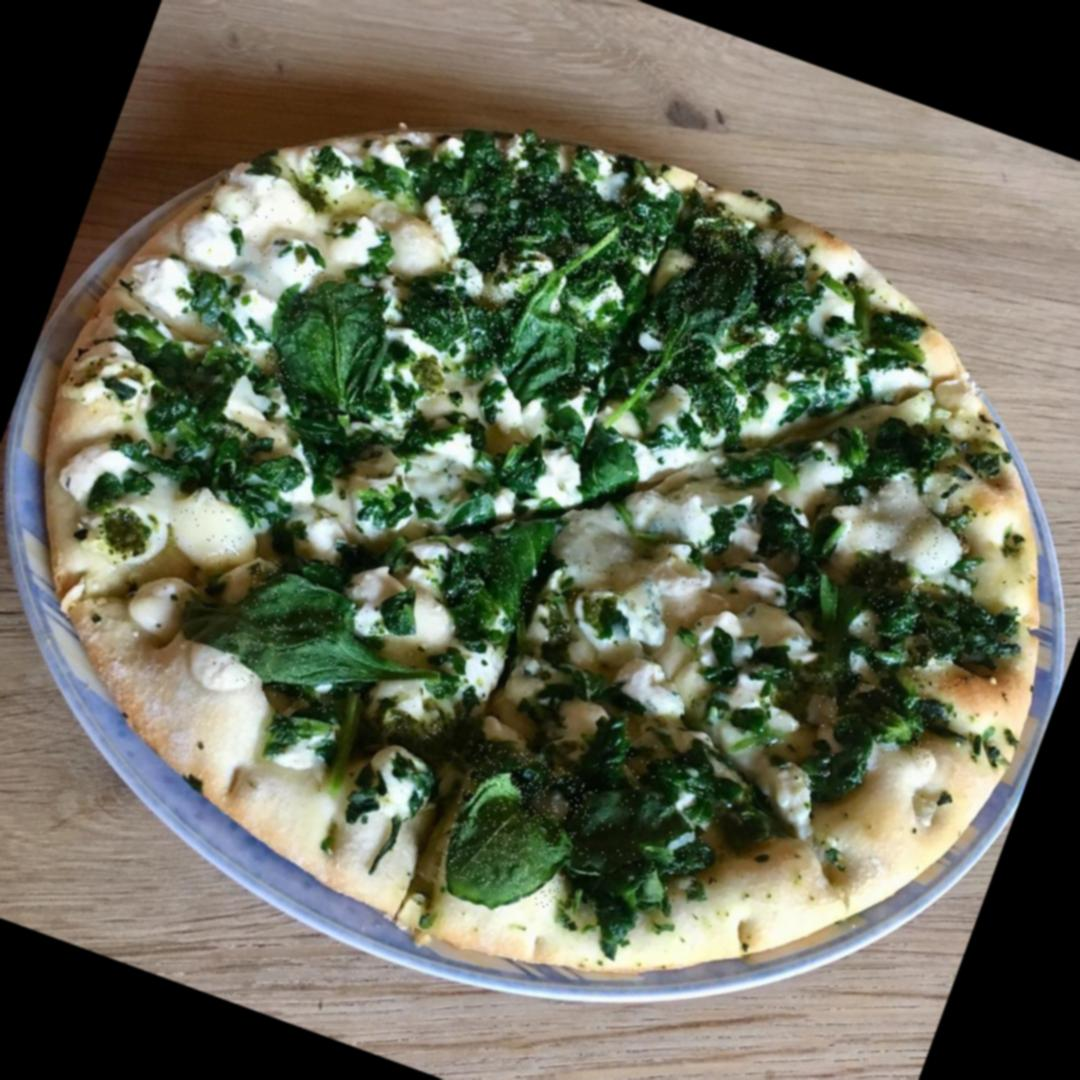Arugula: (415, 143, 660, 400), (636, 210, 810, 426), (810, 562, 988, 770), (569, 728, 739, 909), (434, 738, 602, 914), (217, 563, 370, 716), (261, 265, 402, 416), (450, 514, 553, 632)
Cheese: (560, 478, 722, 642), (179, 168, 330, 324), (839, 470, 973, 576), (157, 476, 256, 570)
Pizza: (0, 0, 1080, 1080)
